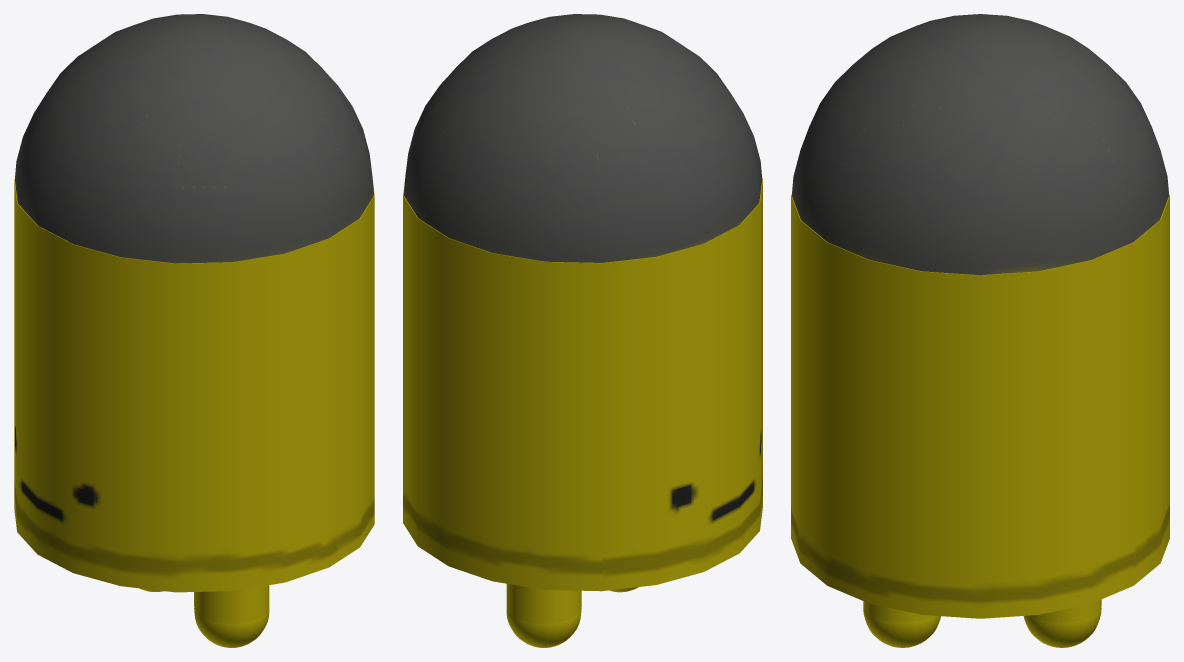
Rendered from bullet_kin.fbx.
3 views of the same model, side by side, from view 1: azimuth 30°, elevation 25°; view 2: azimuth 150°, elevation 25°; view 3: azimuth 270°, elevation 25° (orthographic). The views are drawn at different scales.
Parts seen in each view (by area): view 1: pSphere8; view 2: pSphere8; view 3: pSphere8.
Boxes of the visible parts, x1,y1,x2,y2 form: pSphere8: (14, 14, 374, 647); pSphere8: (403, 14, 762, 647); pSphere8: (791, 14, 1169, 647).
Bounding box in the file's own units: 2 × 3.57 × 2.
